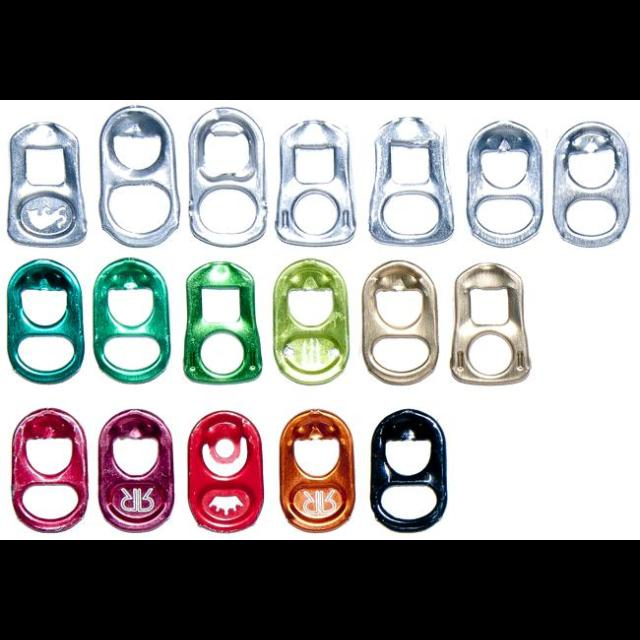aba de lata: (97, 105, 181, 249), (187, 105, 269, 249), (367, 114, 455, 246), (275, 118, 357, 246), (550, 120, 632, 248), (7, 406, 89, 534), (448, 263, 532, 387), (367, 406, 447, 534), (7, 122, 88, 248), (93, 254, 171, 384), (183, 260, 263, 384), (6, 256, 82, 386), (271, 258, 349, 384), (97, 408, 175, 534), (278, 408, 356, 534), (467, 120, 543, 248), (362, 260, 438, 384), (188, 409, 264, 533)
